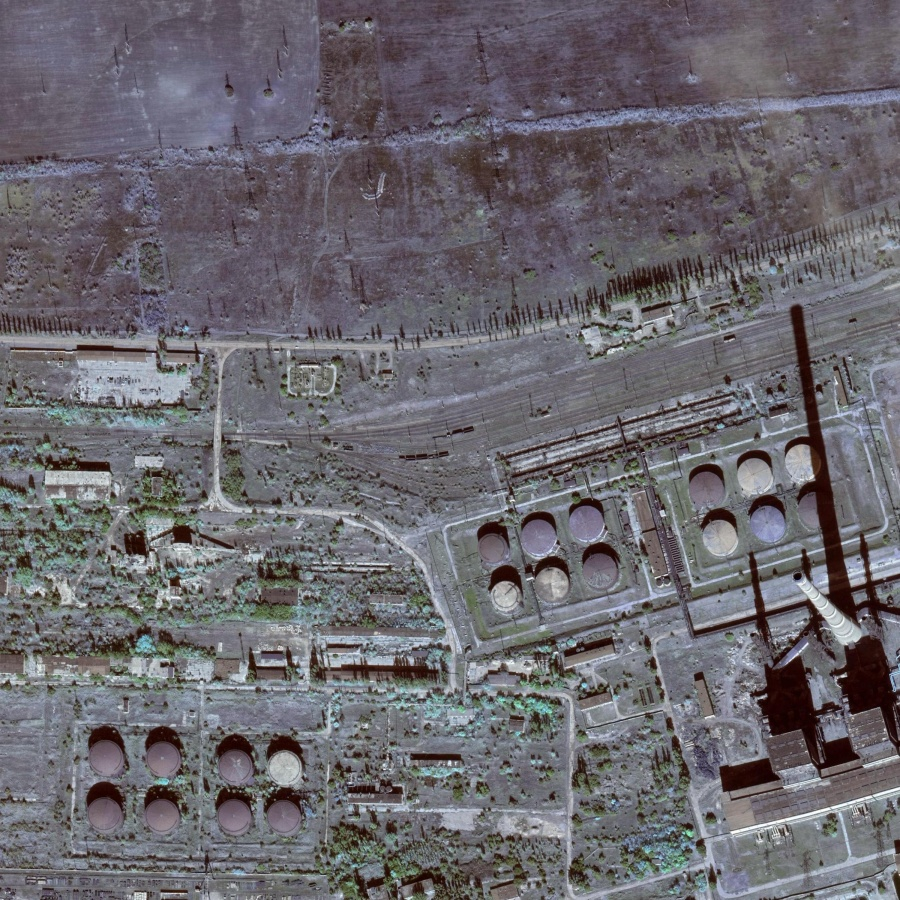PowerPlant: (53, 686, 323, 864), (440, 475, 647, 651)
